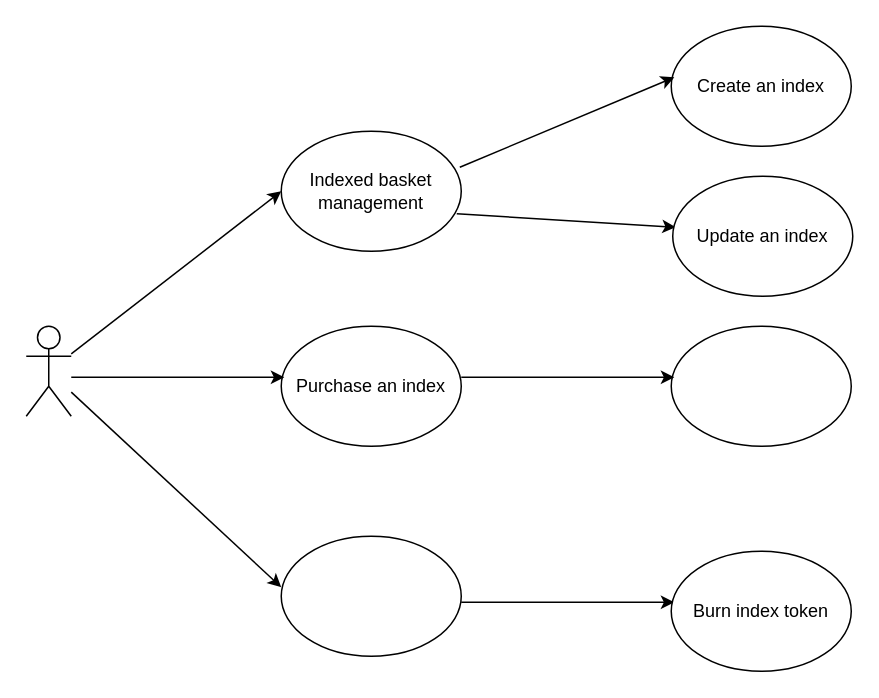
This 879x698 diagram has some shape labels left out. Each missing label, with the centre of its shape:
Mint index token: the point at 760,385
Redeem an index: the point at 370,595
User: the point at 48,370
